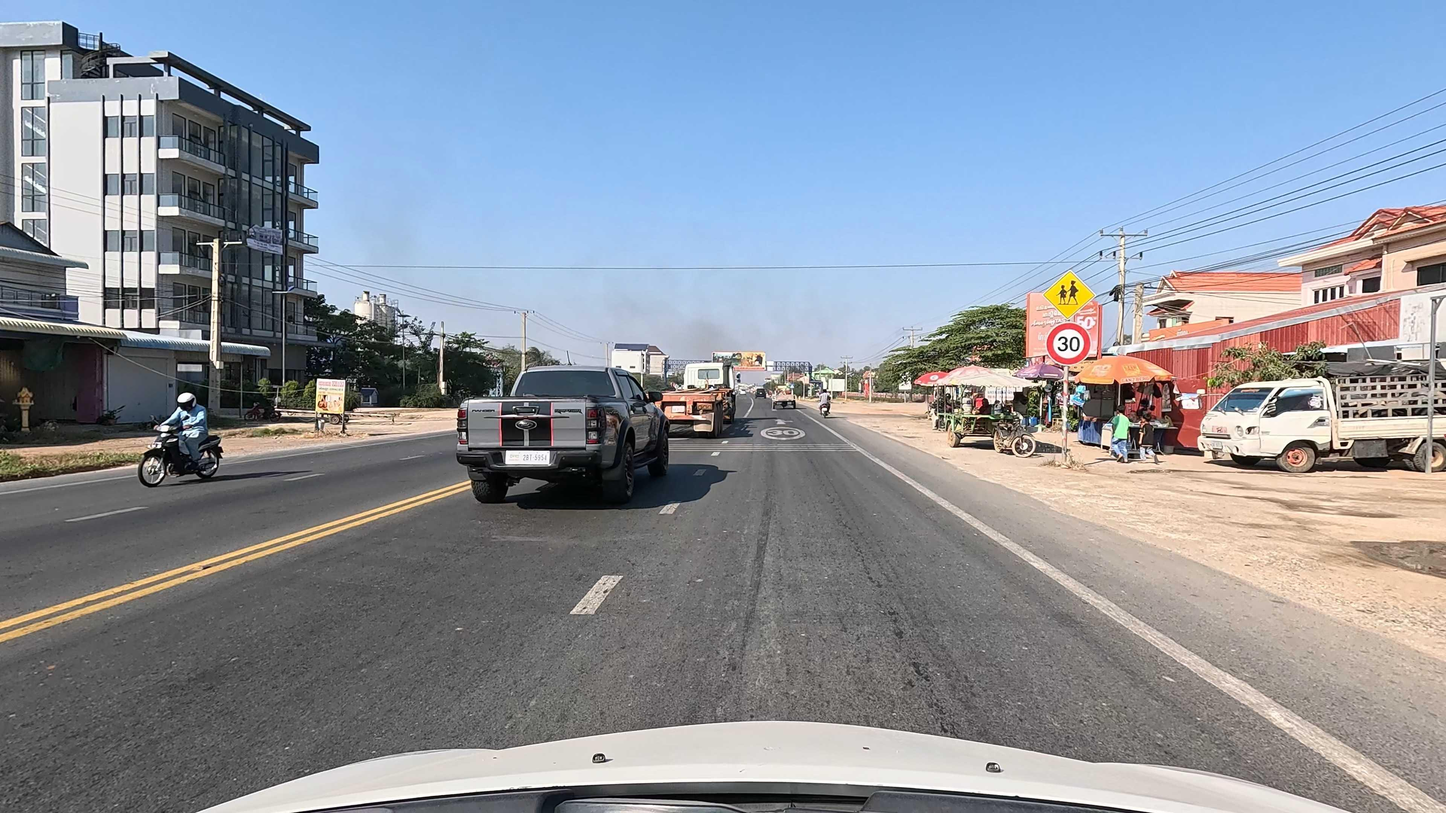school_zone: (1043, 269, 1098, 321)
speed_limit_30: (1043, 321, 1091, 365)
